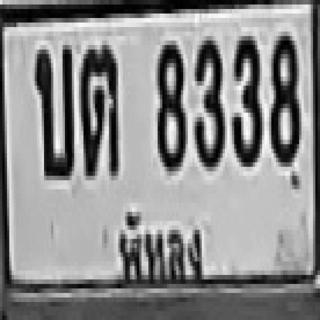A21: (79, 43, 116, 174)
A26: (32, 41, 72, 176)
N03: (192, 36, 223, 167), (230, 32, 260, 162)
N08: (269, 32, 297, 162), (155, 41, 183, 167)
P41: (113, 204, 208, 296)
